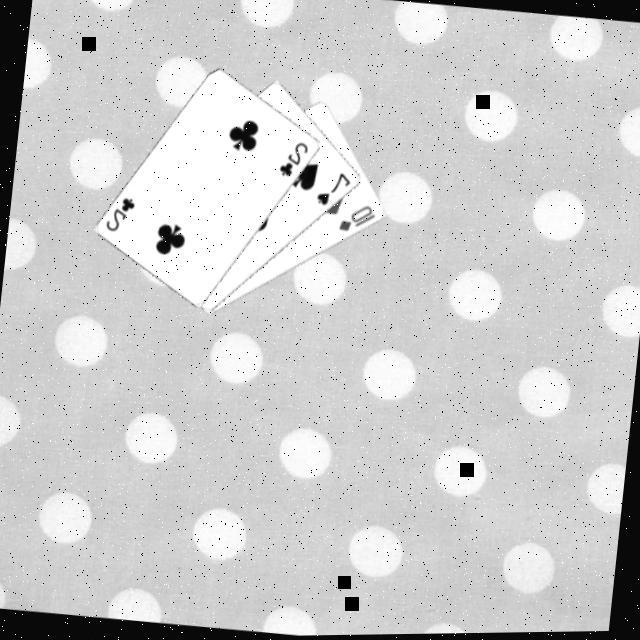10D: (334, 202, 378, 241)
2C: (273, 138, 311, 183), (101, 195, 137, 238)
7S: (311, 169, 353, 213)
